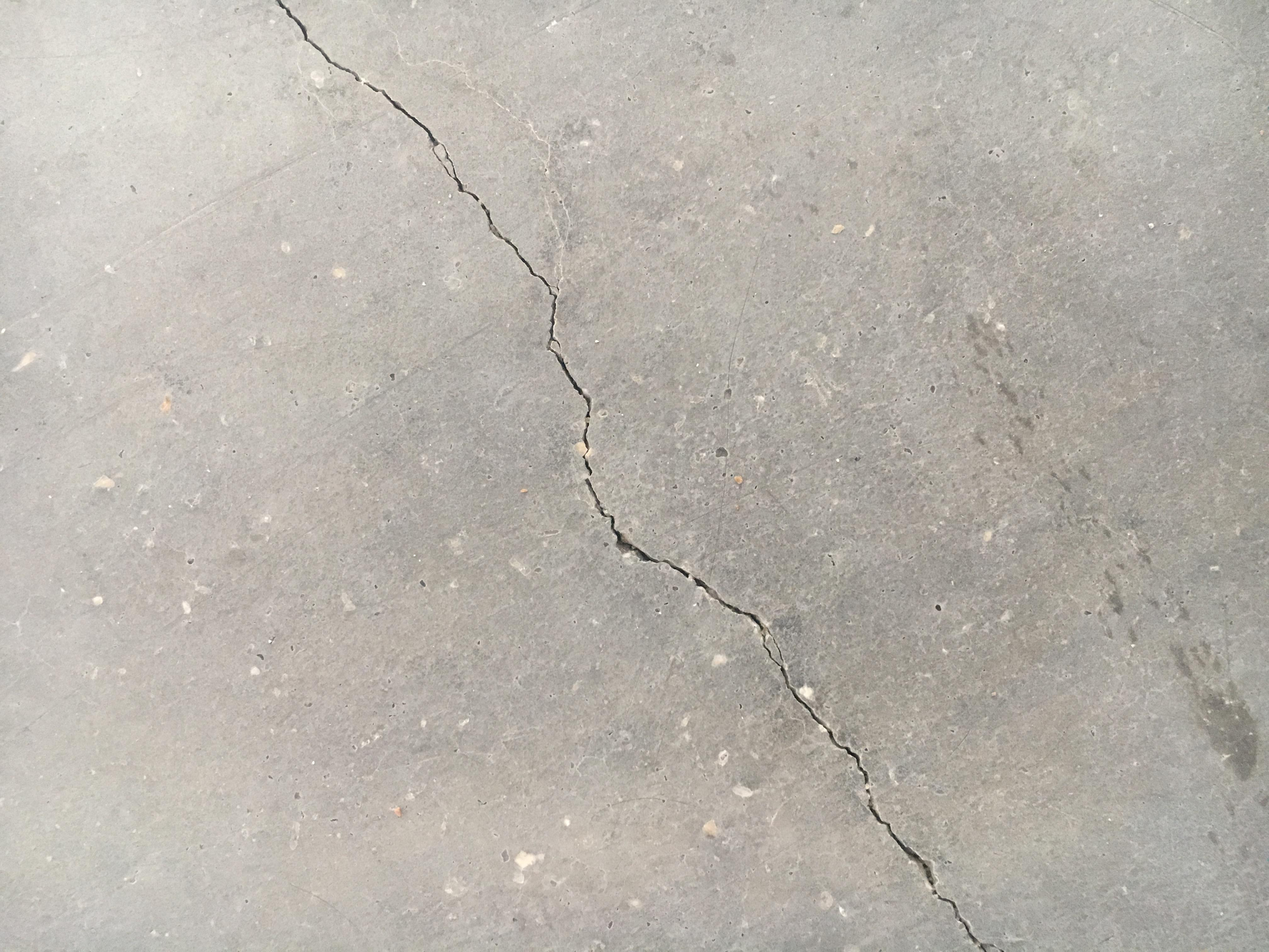Diagonal Crack: (273, 2, 999, 948)
